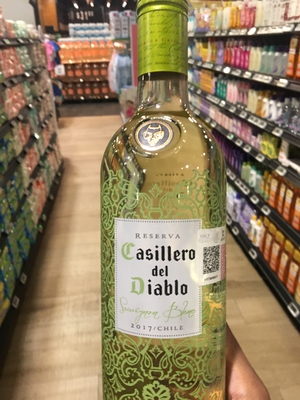casillero del diablo sauvignon blanc: (96, 20, 232, 399)
